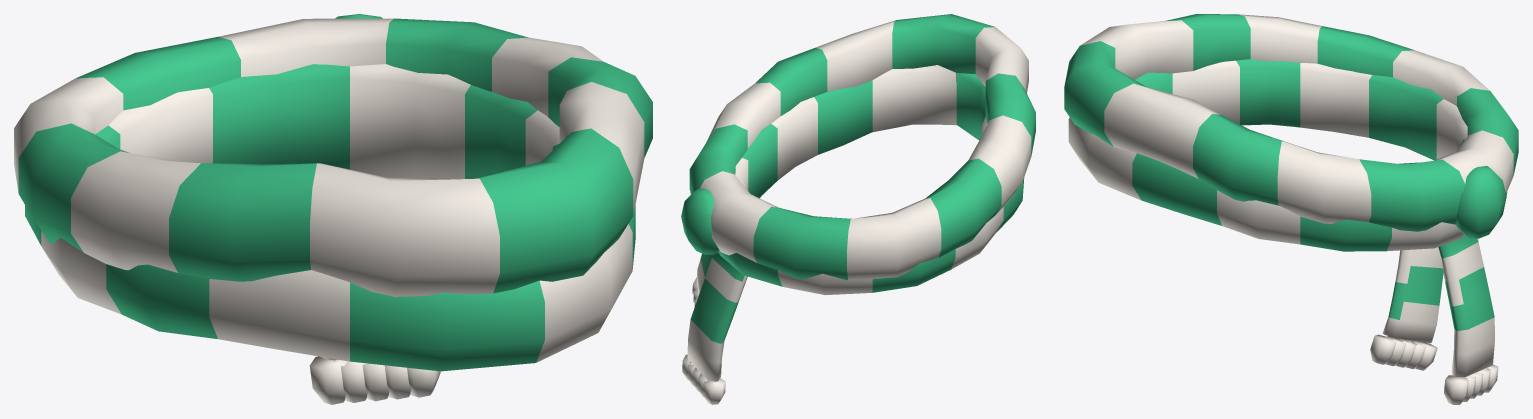
File: echarpe.fbx
The picture shows the model from 3 angles, left to right: view 1: azimuth 30°, elevation 25°; view 2: azimuth 150°, elevation 25°; view 3: azimuth 270°, elevation 25°; orthographic projection. The views are drawn at different scales.
Visible parts, largest first — view 1: Tours, Anim_PanGauche; view 2: Tours, Anim_PanGauche, Anim_PanDroit; view 3: Tours, Anim_PanGauche, Anim_PanDroit.
Part boxes in pixels (box(x1,y1,x2,y2)): Tours: box(14, 14, 652, 371); Anim_PanGauche: box(309, 356, 440, 404); Tours: box(681, 14, 1035, 295); Anim_PanGauche: box(682, 252, 747, 404); Anim_PanDroit: box(692, 253, 712, 306); Tours: box(1064, 14, 1518, 251); Anim_PanGauche: box(1438, 236, 1498, 404); Anim_PanDroit: box(1370, 247, 1443, 370).
Bounding box in the file's own units: 0.8548 × 0.7812 × 1.08.
